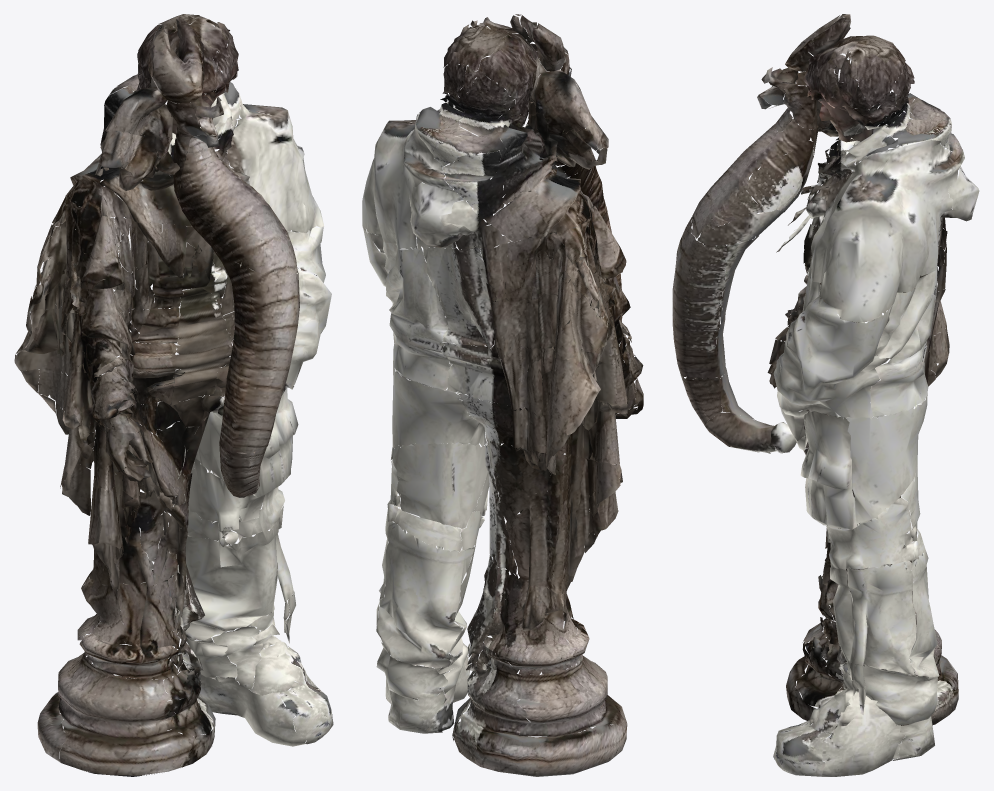
The model's file is bishop_white.glb.
The picture shows the model from 3 angles, left to right: view 1: azimuth 30°, elevation 25°; view 2: azimuth 150°, elevation 25°; view 3: azimuth 270°, elevation 25°; orthographic projection. The views are drawn at different scales.
Visible parts, largest first — view 1: tripo_node_f0495bd7-0585-4284-9df3-728c0058496d; view 2: tripo_node_f0495bd7-0585-4284-9df3-728c0058496d; view 3: tripo_node_f0495bd7-0585-4284-9df3-728c0058496d.
Boxes of the visible parts, x1,y1,x2,y2 form: tripo_node_f0495bd7-0585-4284-9df3-728c0058496d: (14,14,333,776); tripo_node_f0495bd7-0585-4284-9df3-728c0058496d: (362,14,643,776); tripo_node_f0495bd7-0585-4284-9df3-728c0058496d: (672,14,979,776).
Size of the model in its own units: 0.3879 by 1 by 0.3954.
Materials: 1 (1 with a texture image).
